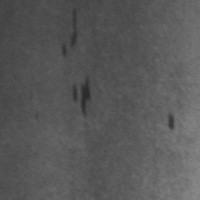inclusion: (59, 6, 82, 61), (70, 73, 94, 119), (165, 107, 178, 134)
